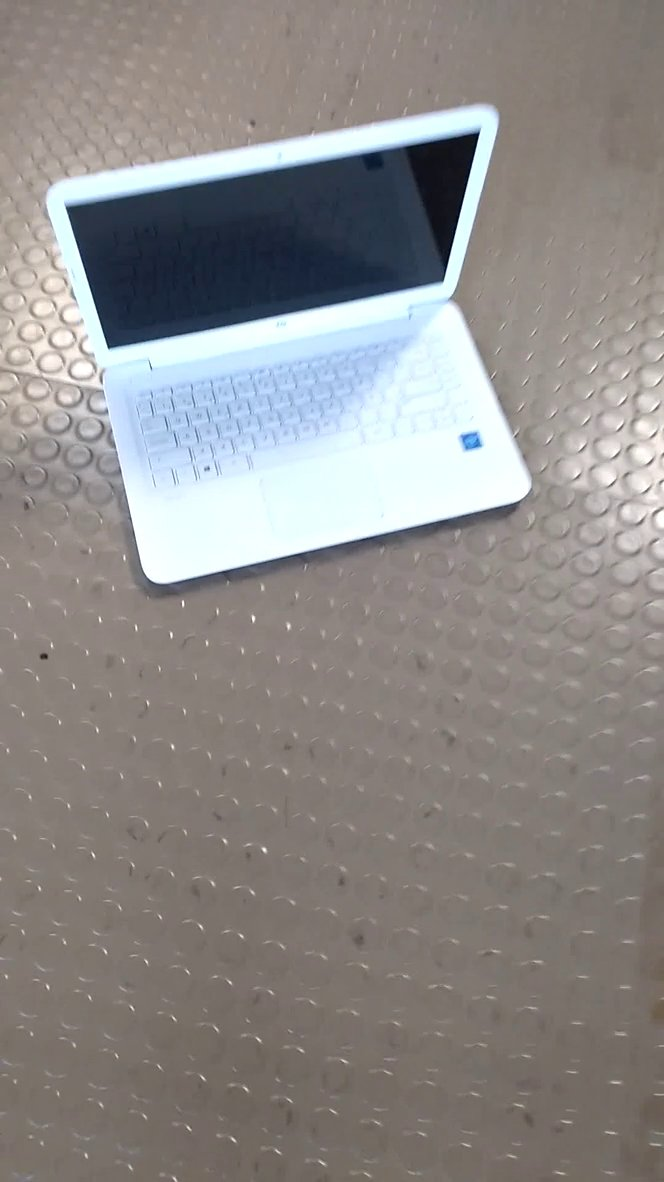laptop: (44, 96, 538, 591)
